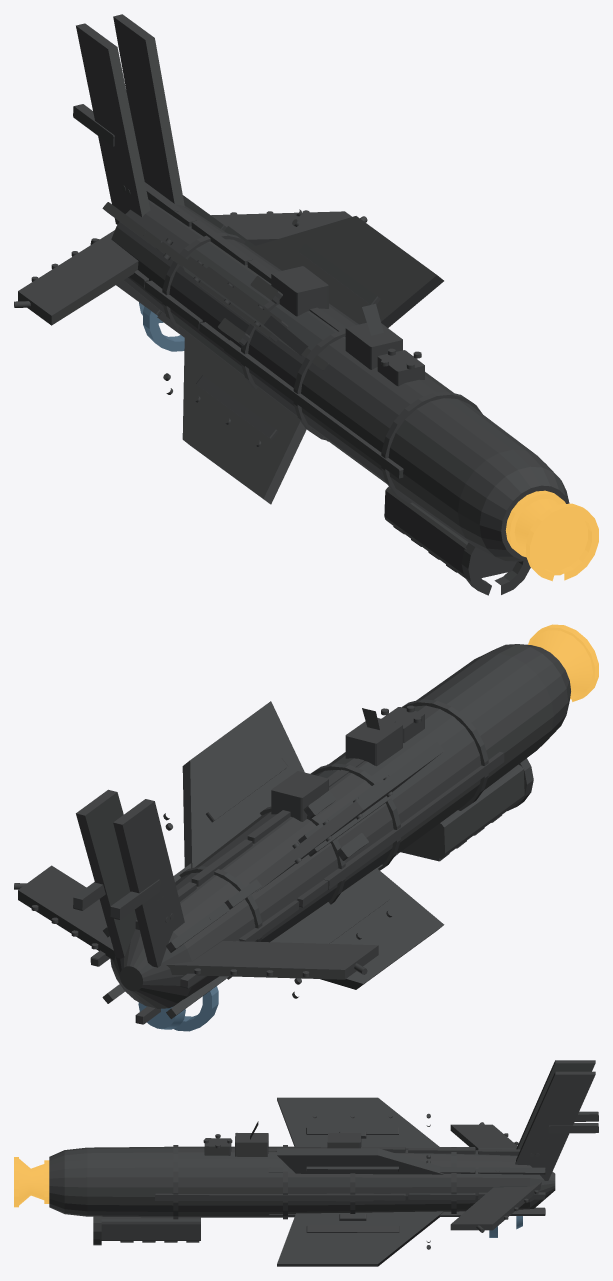
Rendered from streak_predator.glb.
3 renders of one model, top to bottom at view 1: azimuth 30°, elevation 25°; view 2: azimuth 150°, elevation 25°; view 3: azimuth 270°, elevation 25°, orthographic. The views are drawn at different scales.
Visible parts, largest first — view 1: streak_predator__streak_predator, streak_predator__exhaust, streak_predator__sensor; view 2: streak_predator__streak_predator, streak_predator__exhaust, streak_predator__sensor; view 3: streak_predator__streak_predator, streak_predator__exhaust.
Boxes of the visible parts, x1,y1,x2,y2 form: streak_predator__streak_predator: (14,14,569,595); streak_predator__exhaust: (505,490,598,581); streak_predator__sensor: (139,302,184,351); streak_predator__streak_predator: (14,644,570,1024); streak_predator__exhaust: (528,624,598,701); streak_predator__sensor: (138,986,218,1031); streak_predator__streak_predator: (49,1060,598,1266); streak_predator__exhaust: (14,1157,49,1207).
Bounding box in the file's own units: 0.3022 × 0.23 × 0.694.
